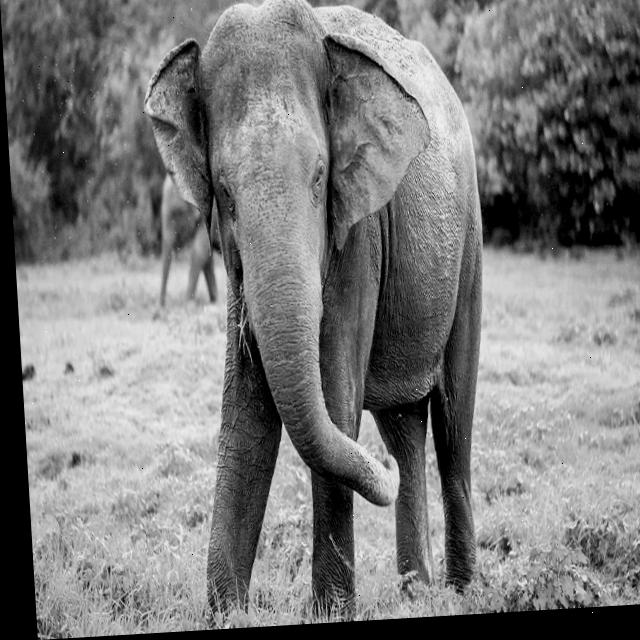Elephant: (136, 0, 505, 630), (145, 167, 223, 317)
